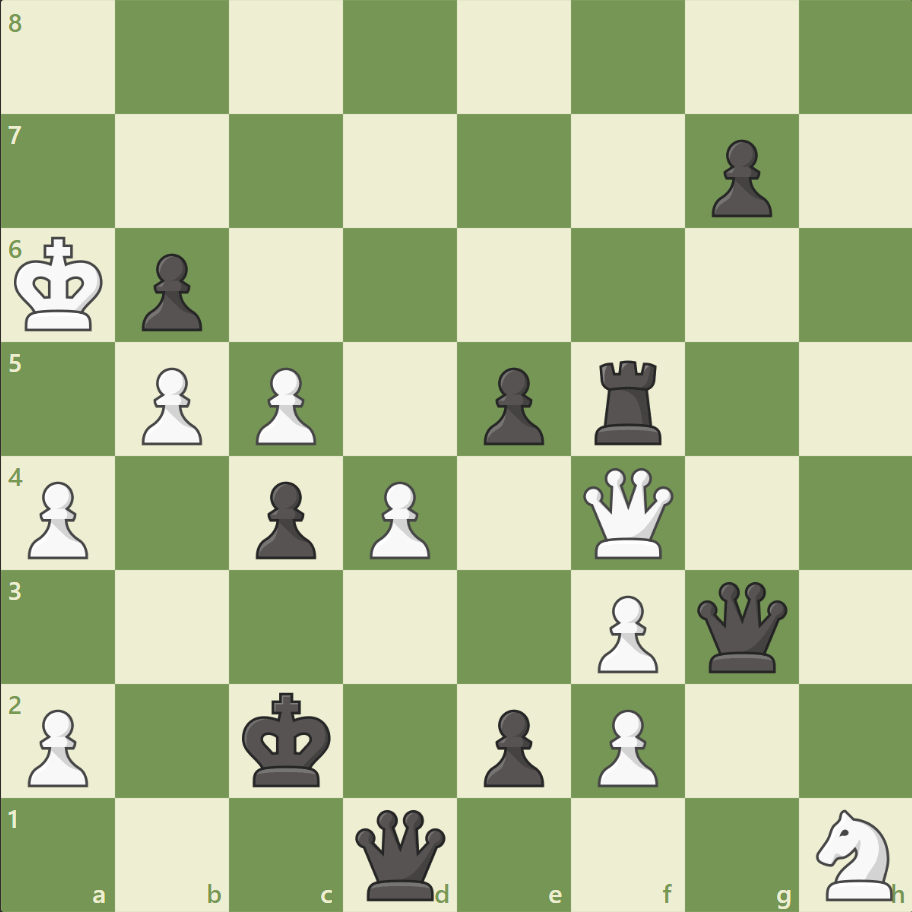K: (11, 231, 111, 339)
N: (806, 802, 903, 904)
P: (133, 359, 208, 450), (247, 359, 322, 450), (20, 473, 95, 564), (20, 700, 95, 791), (361, 473, 435, 564), (588, 586, 662, 677), (588, 700, 662, 791)
Q: (578, 463, 677, 562)
k: (238, 685, 338, 793)
p: (701, 132, 776, 223), (133, 246, 208, 337), (474, 359, 549, 450), (247, 473, 322, 564), (474, 700, 549, 791)
q: (691, 576, 790, 676), (351, 804, 450, 903)
r: (587, 352, 670, 449)
